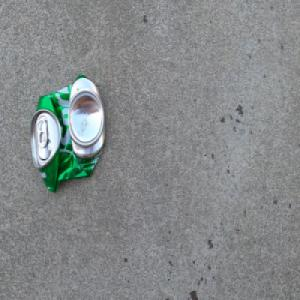SodaCan: (29, 72, 106, 194)
